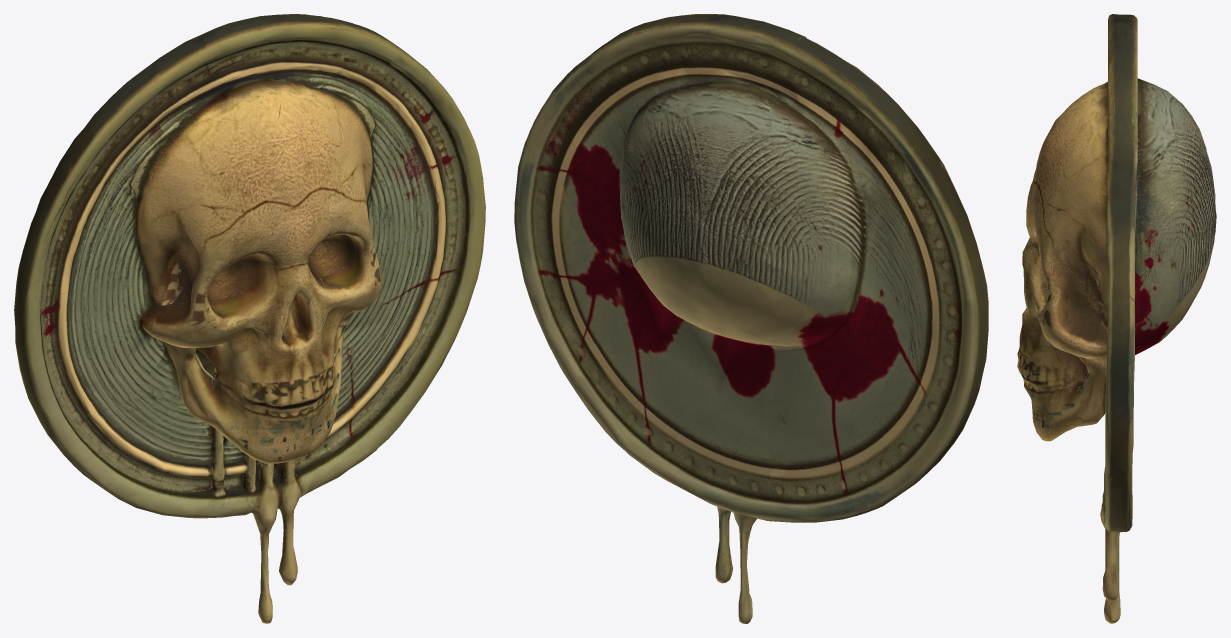
Rendered from item.obj.
3 views of the same model, side by side, from view 1: azimuth 30°, elevation 25°; view 2: azimuth 150°, elevation 25°; view 3: azimuth 270°, elevation 25° (orthographic). The views are drawn at different scales.
Parts seen in each view (by area): view 1: Meshy_AI_a_tarnished_gold_coin_0607235353_texture; view 2: Meshy_AI_a_tarnished_gold_coin_0607235353_texture; view 3: Meshy_AI_a_tarnished_gold_coin_0607235353_texture.
Part boxes in pixels (x1,y1,x2,y2): Meshy_AI_a_tarnished_gold_coin_0607235353_texture: (14, 14, 485, 623); Meshy_AI_a_tarnished_gold_coin_0607235353_texture: (514, 14, 988, 623); Meshy_AI_a_tarnished_gold_coin_0607235353_texture: (1017, 14, 1216, 623).
Bounding box in the file's own units: 1.54 × 1.92 × 0.5961.
Materials: 1 (1 with a texture image).
